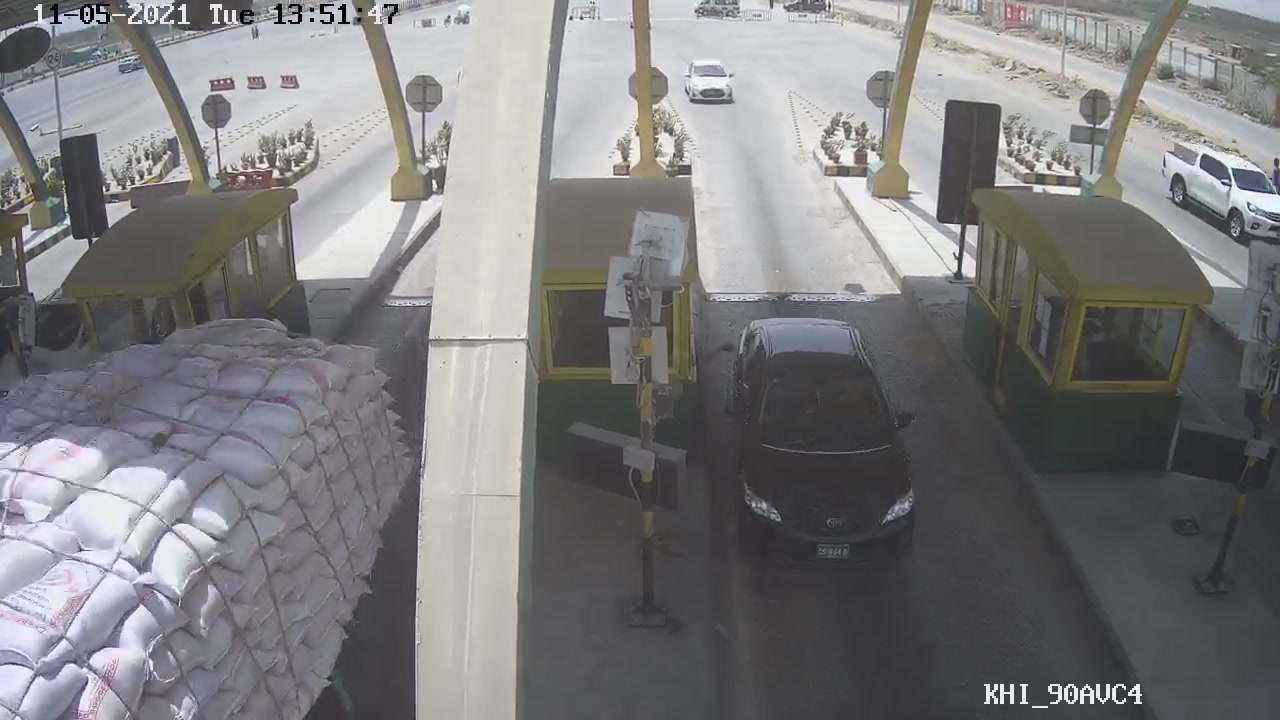F1: (727, 306, 927, 580)
